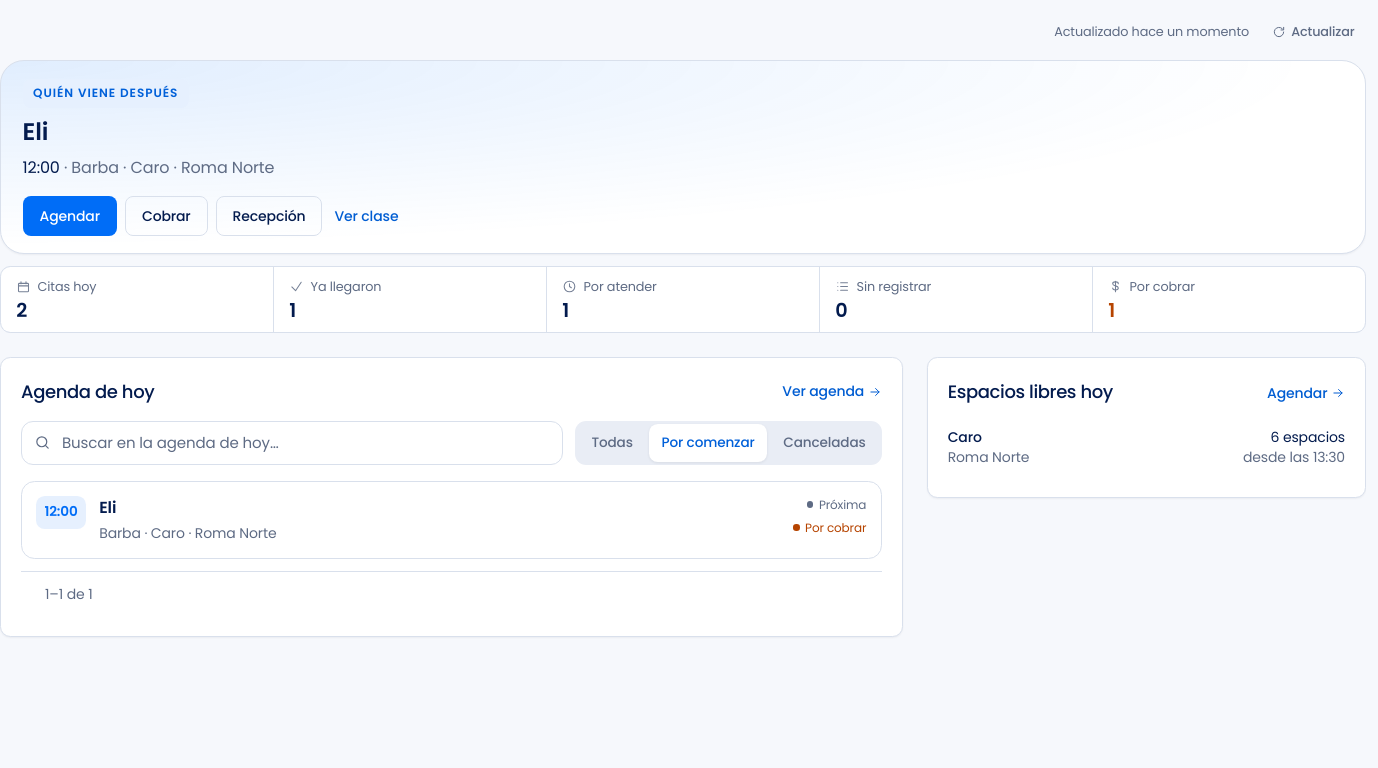
Test: el día de hoy en el Inicio › en citas: quién viene después, qué falta por atender y cobrar, y los espacios libres
Click the button "Todas".
click(612, 443)  # box [579,424,646,462]
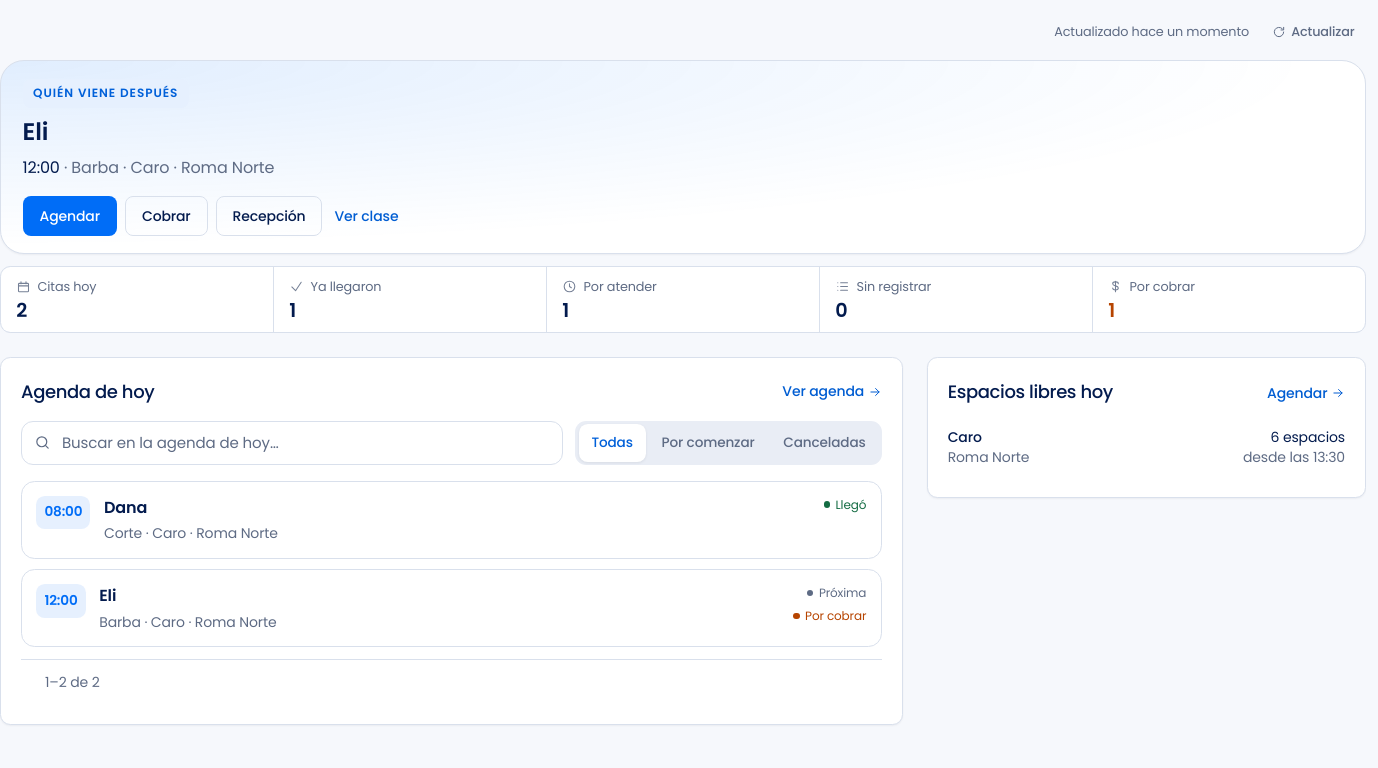
expect the text "Quién viene después" is shown: met, box [23,79,189,108]
expect the text "Llegó" is shown: met, box [824,496,866,513]
